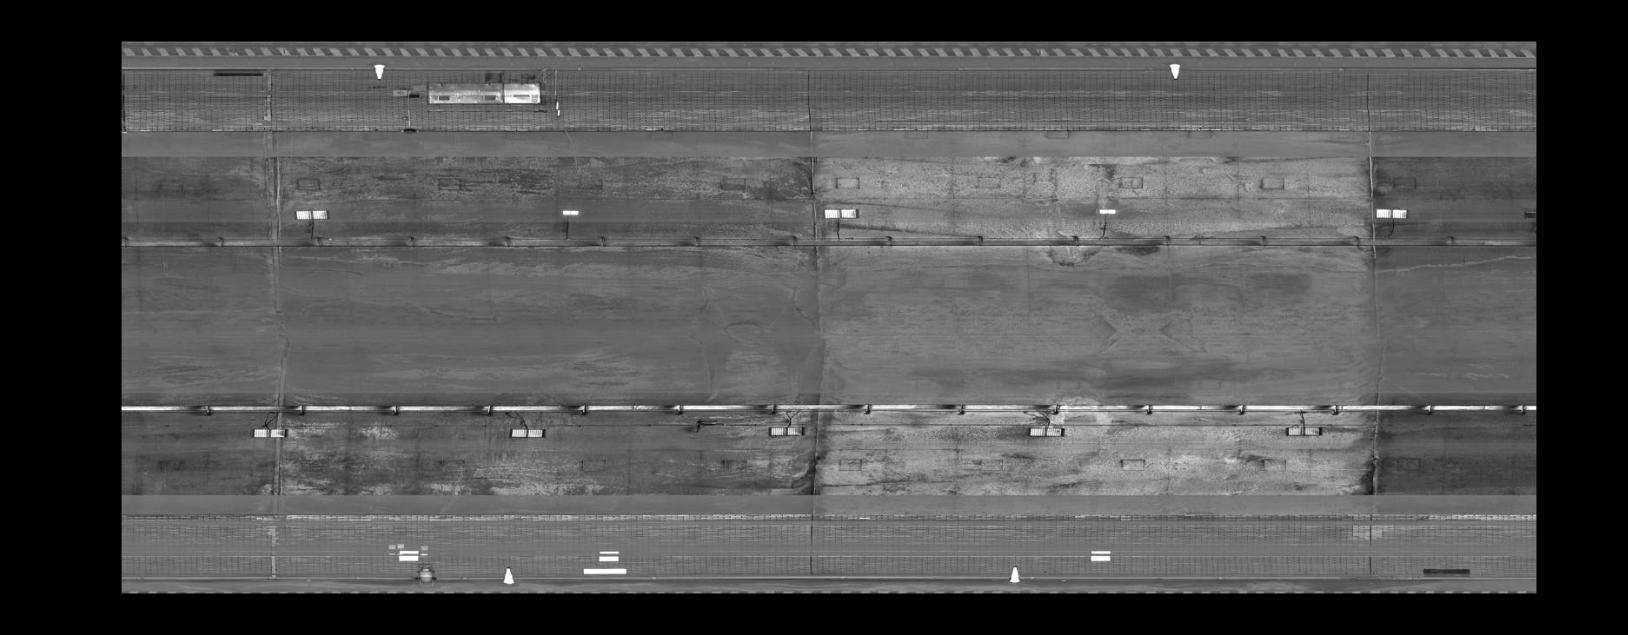light: (505, 425, 550, 442), (1026, 424, 1070, 441), (1282, 423, 1326, 439), (765, 423, 809, 439), (291, 208, 333, 222), (249, 425, 291, 440), (1373, 204, 1413, 219), (821, 205, 860, 220), (557, 208, 584, 217), (1093, 208, 1121, 216)
